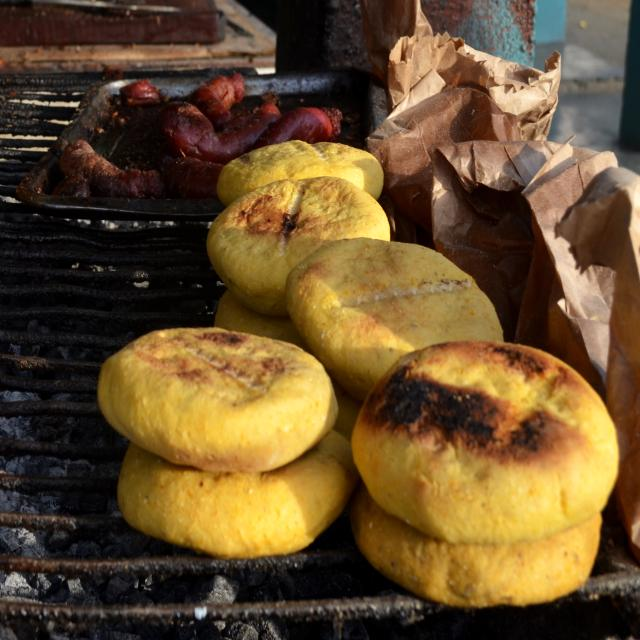arepa: (351, 331, 625, 544), (100, 310, 340, 478)
